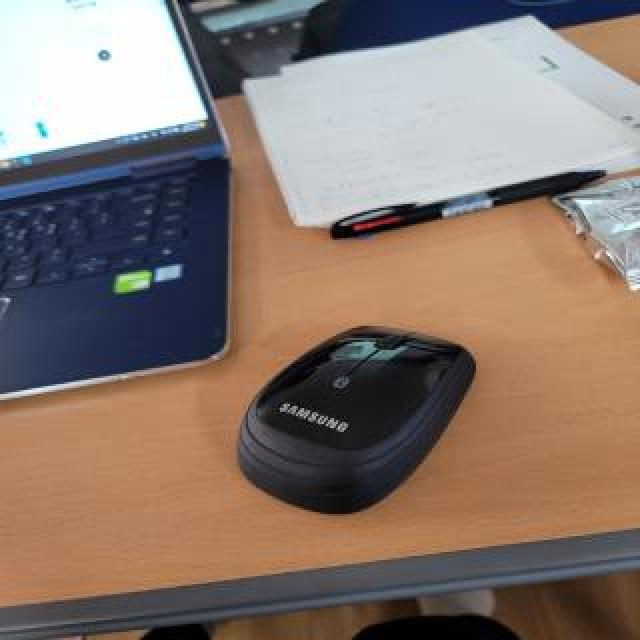laptop_computer: (0, 0, 237, 355)
mouse: (275, 310, 495, 517)
